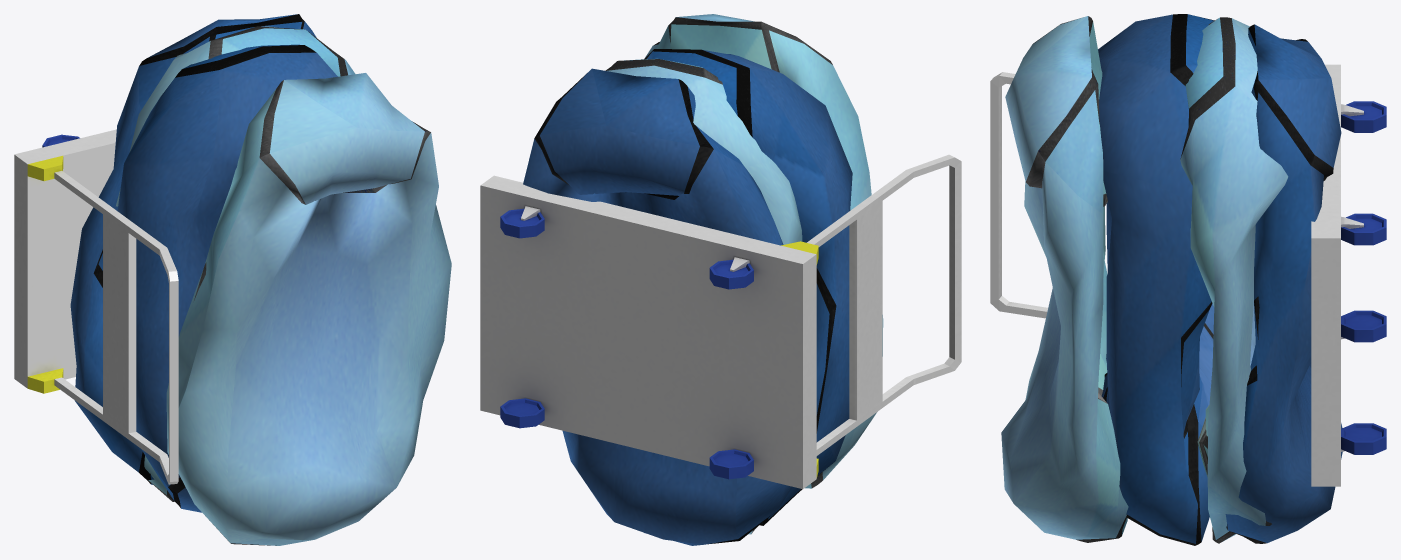
Rendered from ParkingTrolleyMax.obj.
3 views of the same model, side by side, from view 1: azimuth 30°, elevation 25°; view 2: azimuth 150°, elevation 25°; view 3: azimuth 270°, elevation 25° (orthographic). The views are drawn at different scales.
Visible parts, largest first — view 1: ParkingTrolleyMax; view 2: ParkingTrolleyMax; view 3: ParkingTrolleyMax.
Part boxes in pixels (x1,y1,x2,y2): ParkingTrolleyMax: (14,14,451,545); ParkingTrolleyMax: (480,14,961,545); ParkingTrolleyMax: (990,14,1386,545).
Bounding box in the file's own units: 0.9029 × 1.24 × 0.8679.
1 material, 1 textured.
